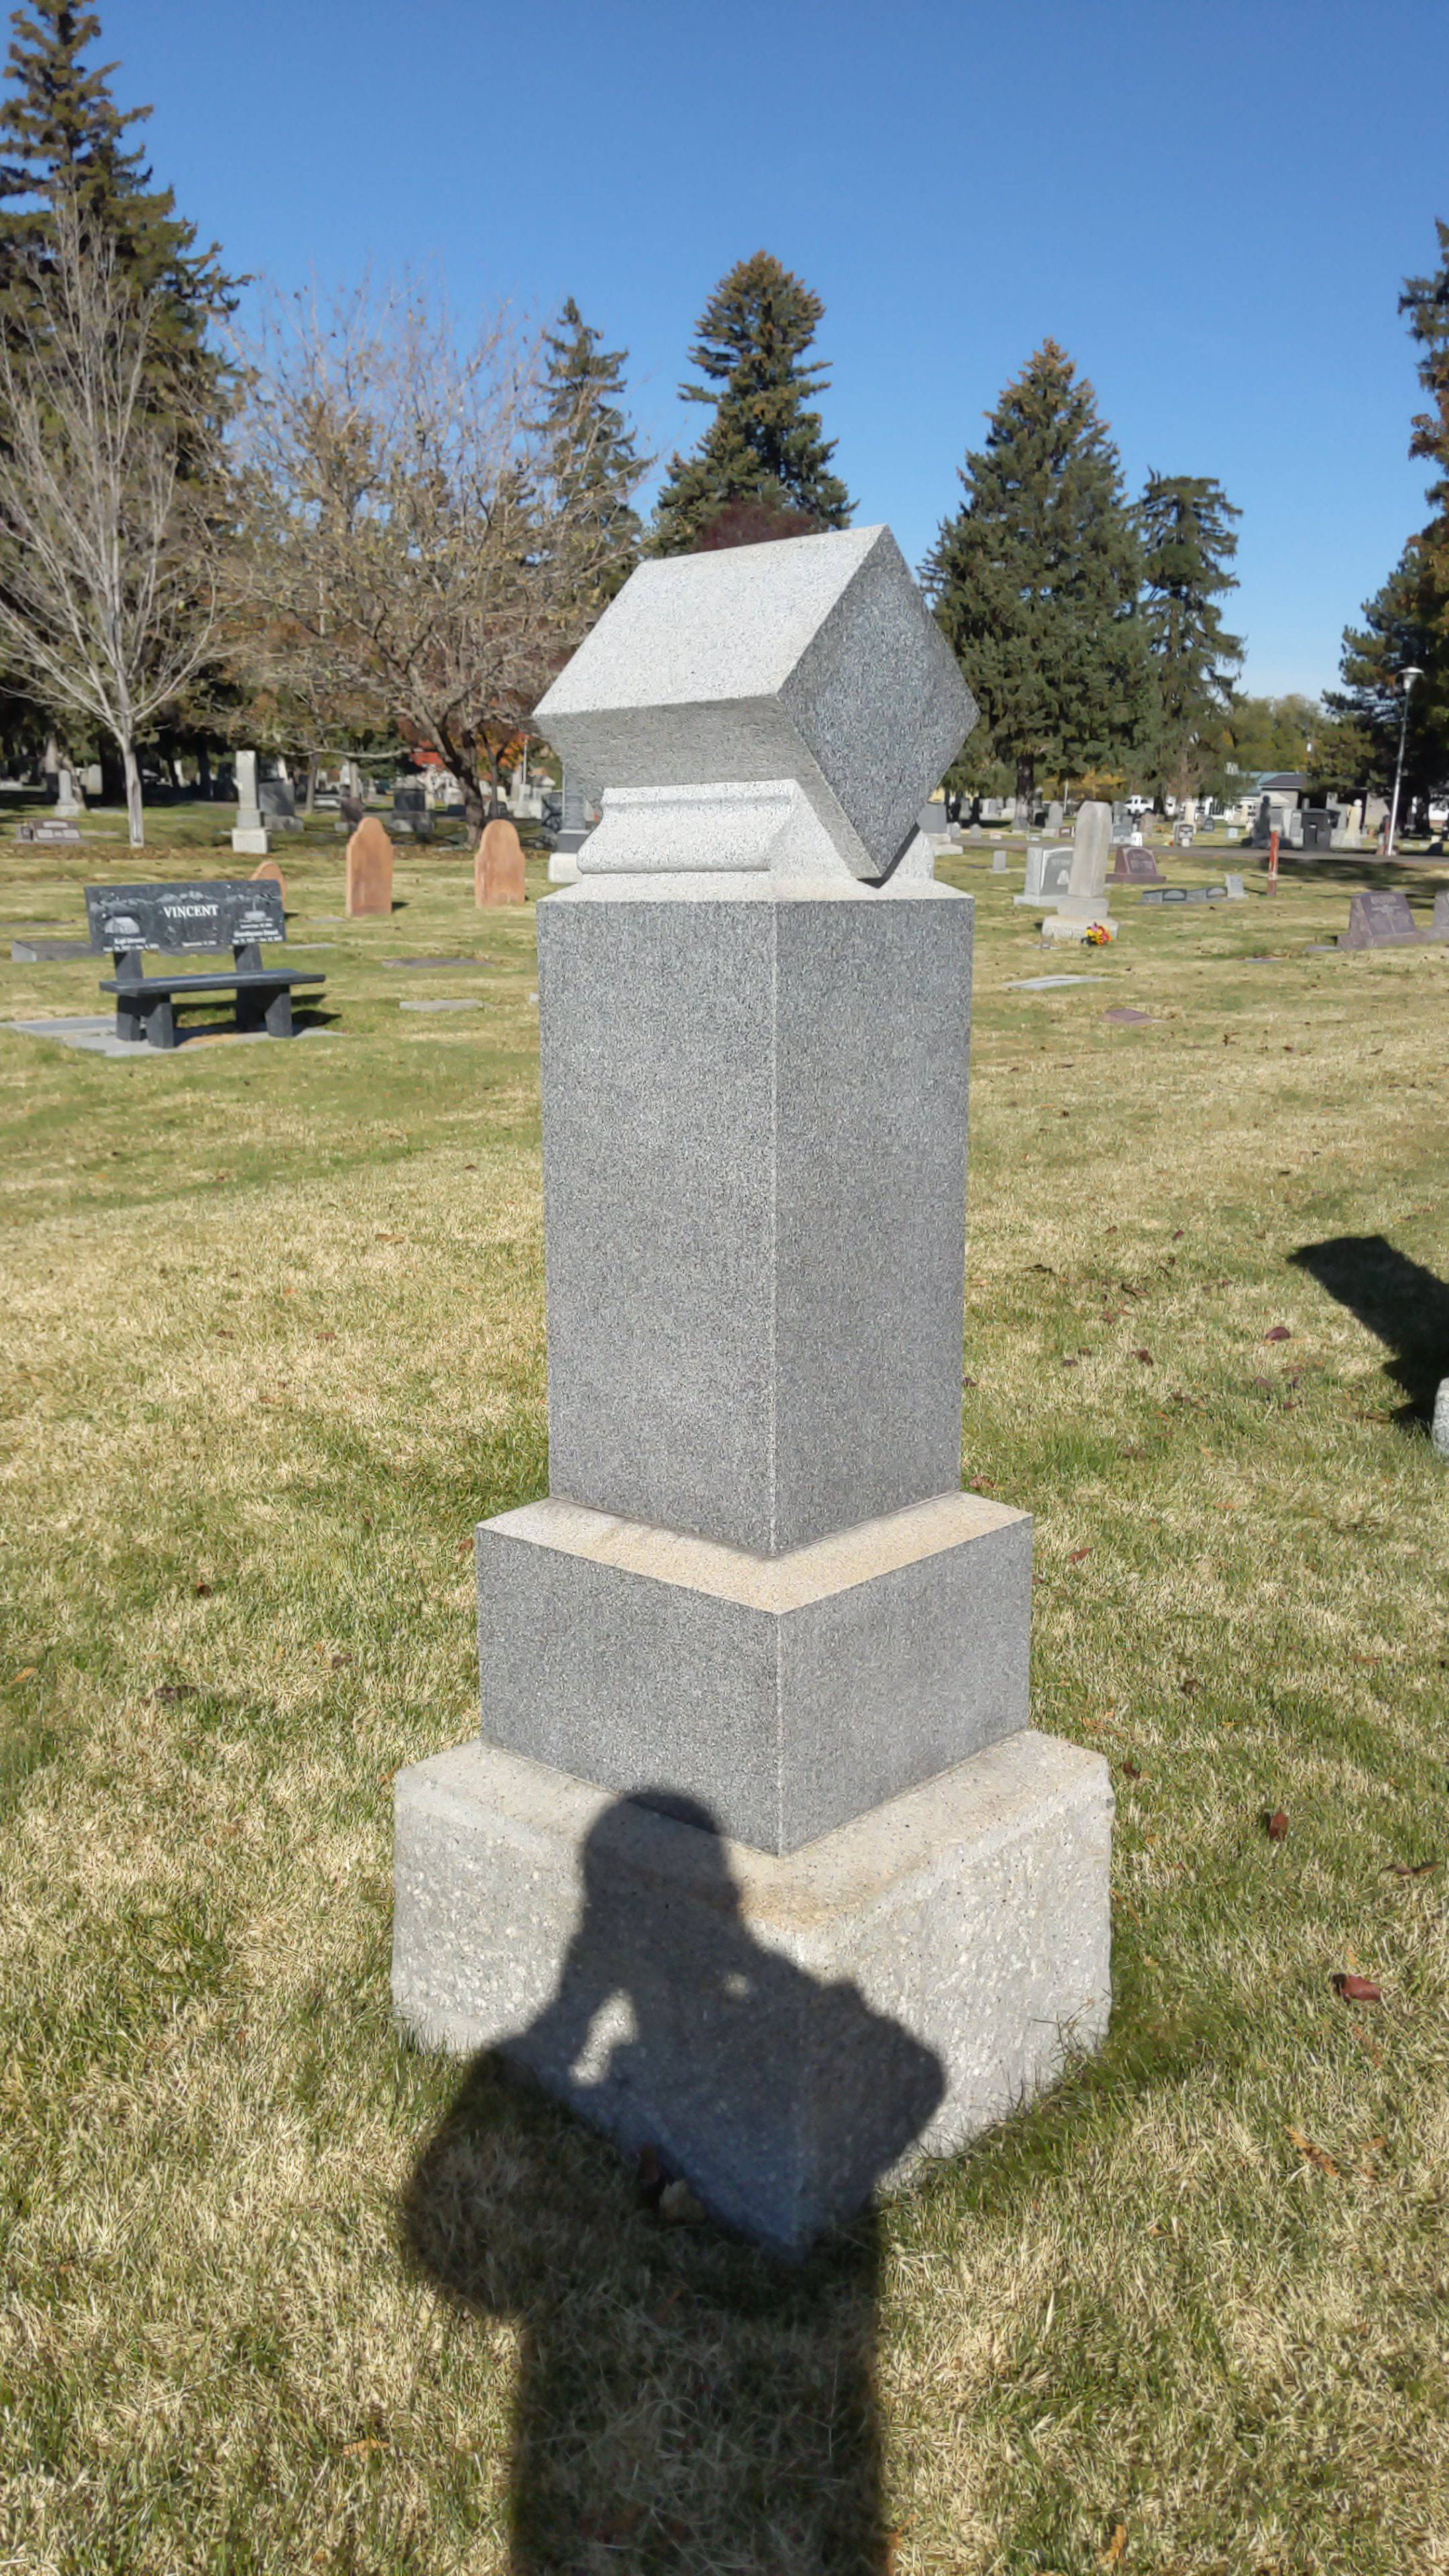obelisk: (501, 531, 1035, 1847)
